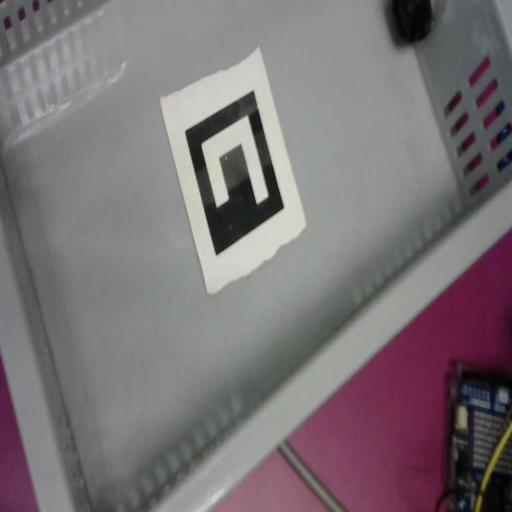QR: (184, 89, 284, 257)
